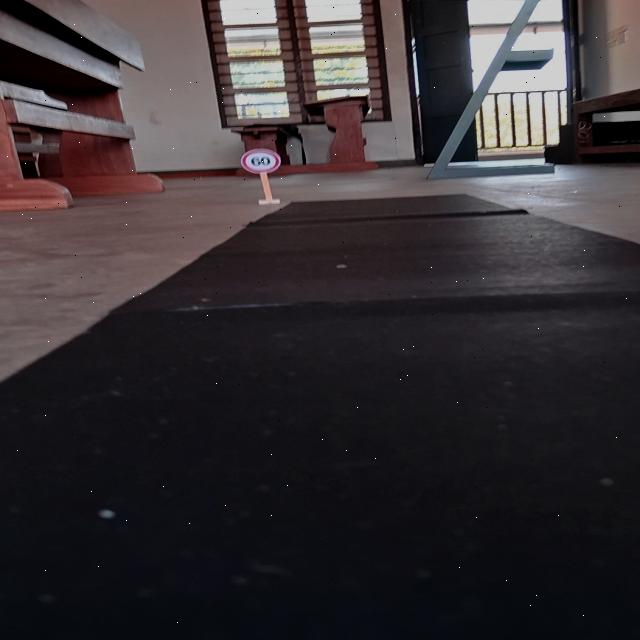Speed60: (238, 148, 282, 174)
